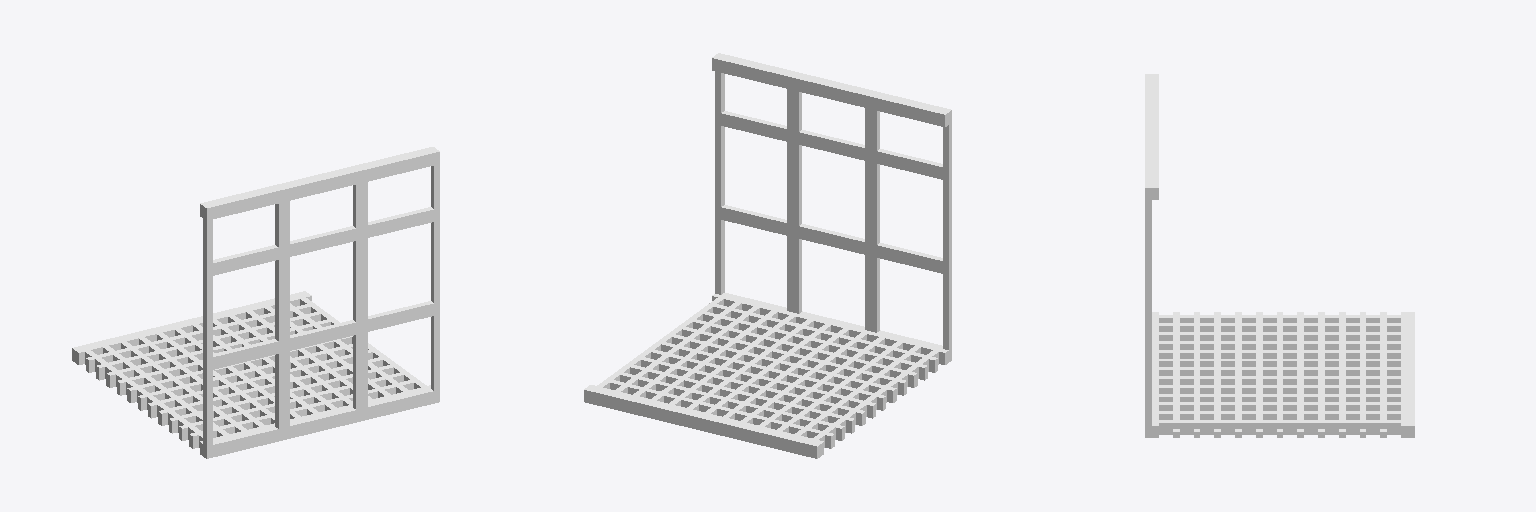
The model's file is emergency_exit_handrail.obj.
3 views of the same model, side by side, from view 1: azimuth 30°, elevation 25°; view 2: azimuth 150°, elevation 25°; view 3: azimuth 270°, elevation 25° (orthographic).
Visible parts, largest first — view 1: object 1; view 2: object 1; view 3: object 1.
Boxes of the visible parts, x1,y1,x2,y2 form: object 1: [72, 147, 439, 458]; object 1: [584, 53, 951, 458]; object 1: [1145, 74, 1414, 437].
Bounding box in the file's own units: 3.9 × 4 × 3.9.